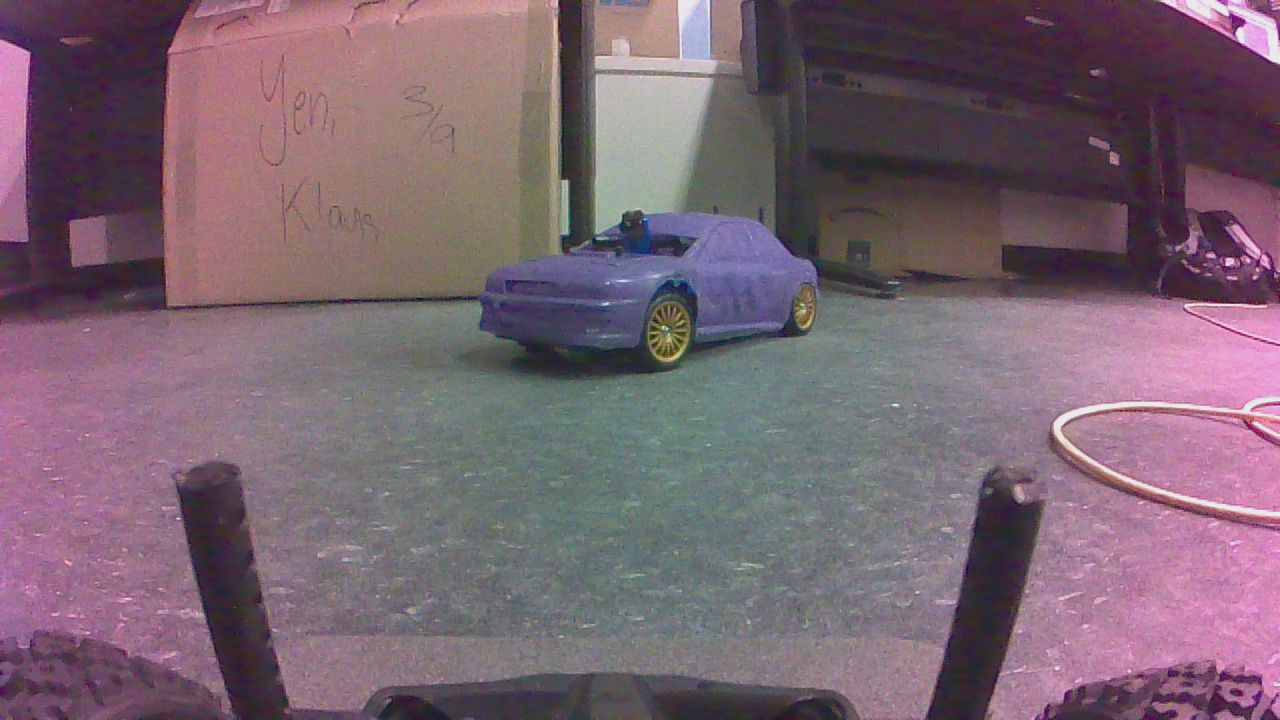opponent: (466, 193, 826, 370)
